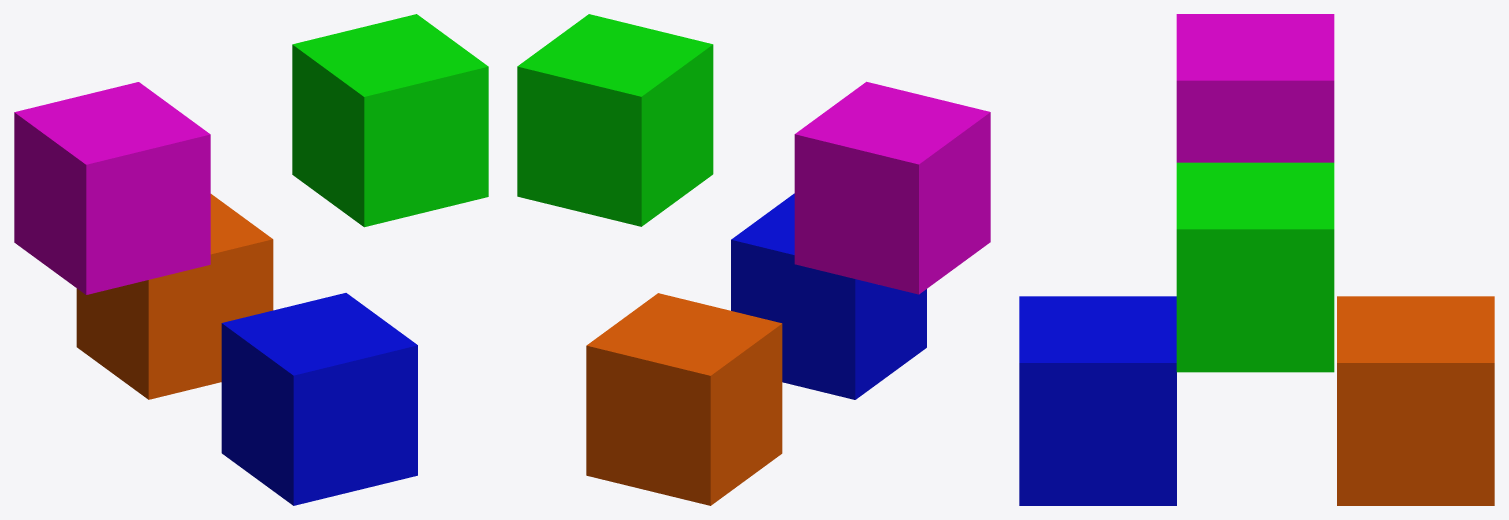
File: testing2.glb
3 renders of one model, left to right at view 1: azimuth 30°, elevation 25°; view 2: azimuth 150°, elevation 25°; view 3: azimuth 270°, elevation 25°, orthographic. The views are drawn at different scales.
Parts seen in each view (by area): view 1: Cube; view 2: Cube; view 3: Cube.
Part boxes in pixels (box(x1,y1,x2,y2)): Cube: box(14, 14, 488, 505); Cube: box(517, 14, 990, 505); Cube: box(1019, 14, 1494, 505).
Bounding box in the file's own units: 6.46 × 4.94 × 6.03.
